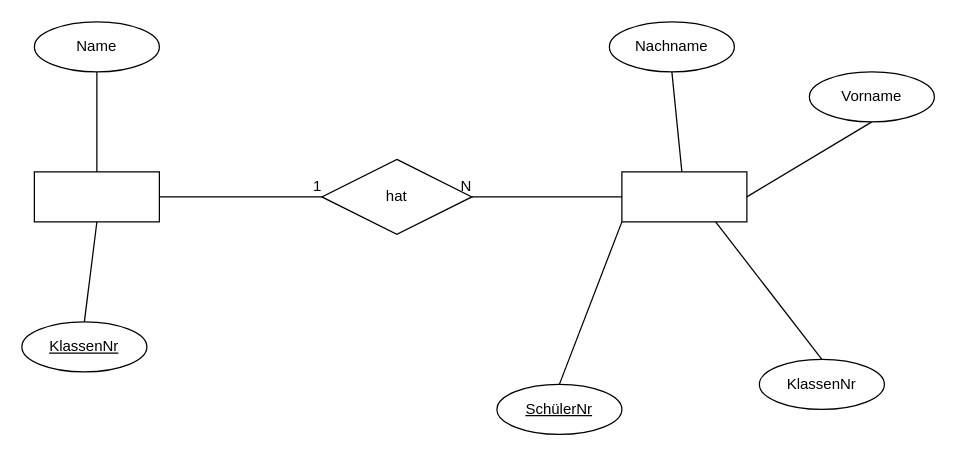
The diagram is 956 pixels wide and 456 high, and some of its shapes have lost their labels. Here are the shapes that lost their labels. From the top down, the box of each, then its label:
(33, 171, 159, 222): Klasse
(621, 171, 747, 222): Schüler
